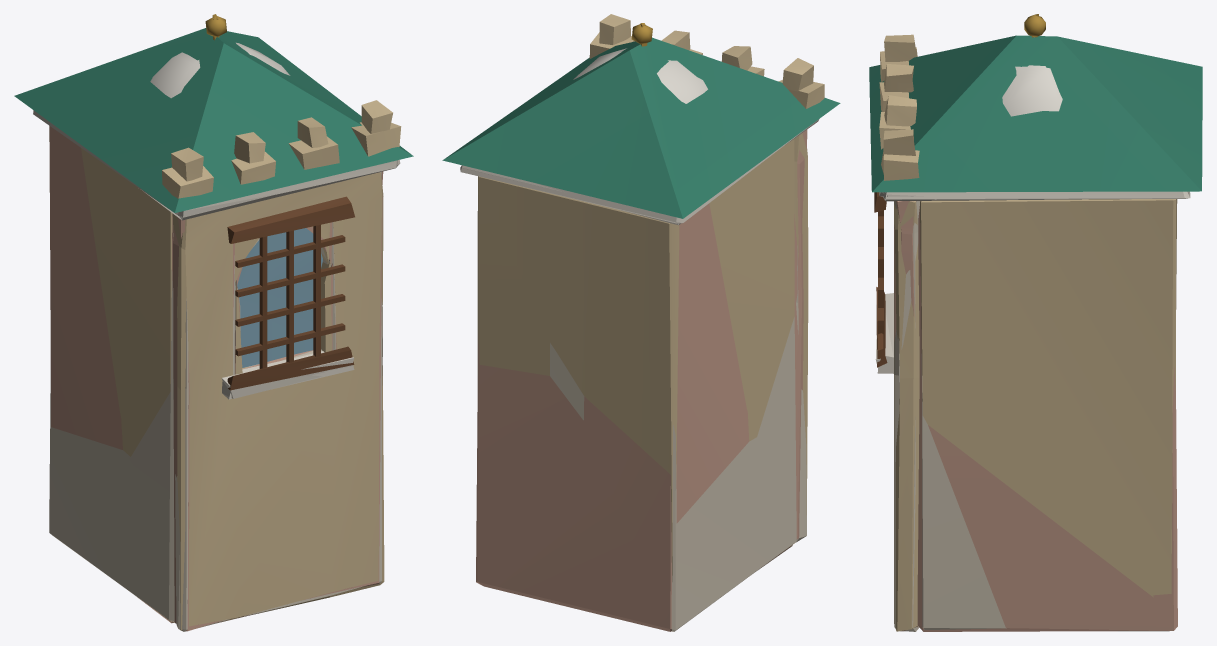
Rendered from dormer.glb.
3 views of the same model, side by side, from view 1: azimuth 30°, elevation 25°; view 2: azimuth 150°, elevation 25°; view 3: azimuth 270°, elevation 25° (orthographic). The views are drawn at different scales.
Parts seen in each view (by area): view 1: dormer.v0.mesh, dormer.v2.mesh, dormer.v1.mesh; view 2: dormer.v0.mesh, dormer.v1.mesh, dormer.v2.mesh; view 3: dormer.v0.mesh, dormer.v2.mesh, dormer.v1.mesh.
Boxes of the visible parts, <box> form: dormer.v0.mesh: <box>33,100,401,630</box>; dormer.v2.mesh: <box>14,28,413,631</box>; dormer.v1.mesh: <box>49,14,397,631</box>; dormer.v0.mesh: <box>460,14,824,631</box>; dormer.v1.mesh: <box>462,23,807,631</box>; dormer.v2.mesh: <box>442,37,840,631</box>; dormer.v0.mesh: <box>875,34,1190,631</box>; dormer.v2.mesh: <box>869,35,1202,631</box>; dormer.v1.mesh: <box>877,14,1188,631</box>.
Size of the model in its own units: 0.7292 by 1.56 by 0.8287.
